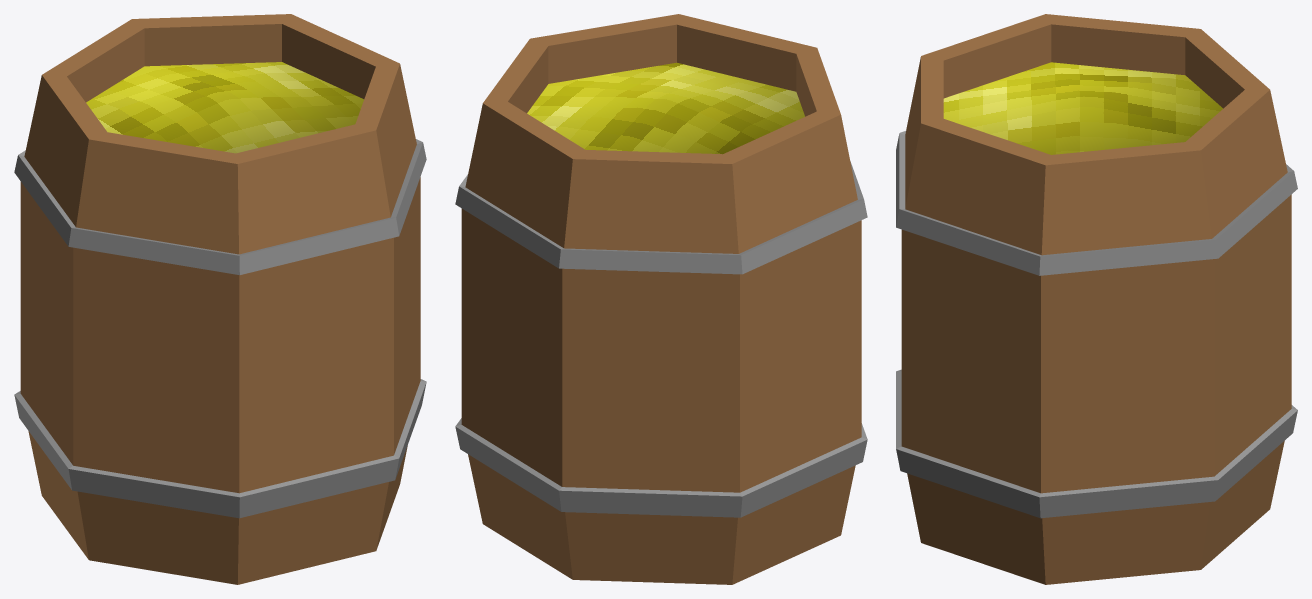
File: WesternBarrel_hay.glb
The picture shows the model from 3 angles, left to right: view 1: azimuth 30°, elevation 25°; view 2: azimuth 150°, elevation 25°; view 3: azimuth 270°, elevation 25°; orthographic projection.
Parts seen in each view (by area): view 1: WesternBarrel_hay2; view 2: WesternBarrel_hay2; view 3: WesternBarrel_hay2.
Boxes of the visible parts, <box> form: WesternBarrel_hay2: <box>14,14,426,584</box>; WesternBarrel_hay2: <box>455,14,867,584</box>; WesternBarrel_hay2: <box>896,14,1297,584</box>.
Size of the model in its own units: 1.26 by 1.42 by 1.23.
Materials: 3 (3 with a texture image).
